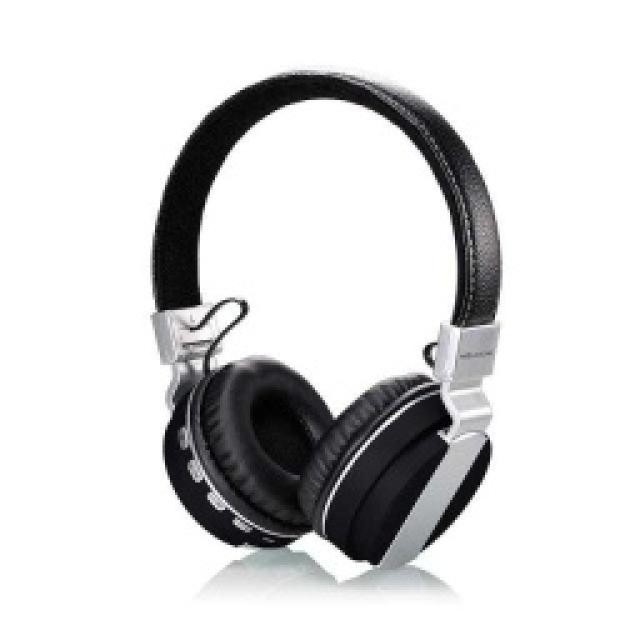headphones: (148, 68, 502, 568)
